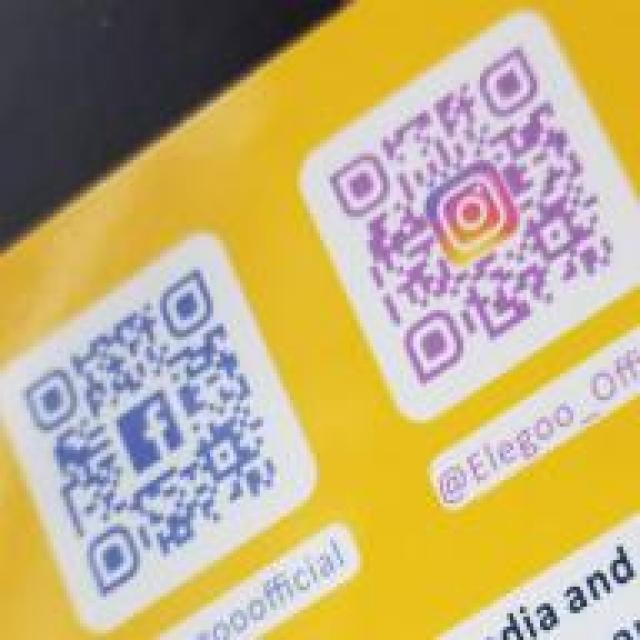QR_CODE: (318, 37, 624, 403), (17, 258, 280, 617)
